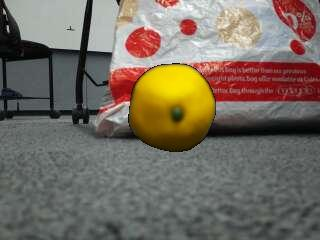lemon: (131, 63, 215, 151)
